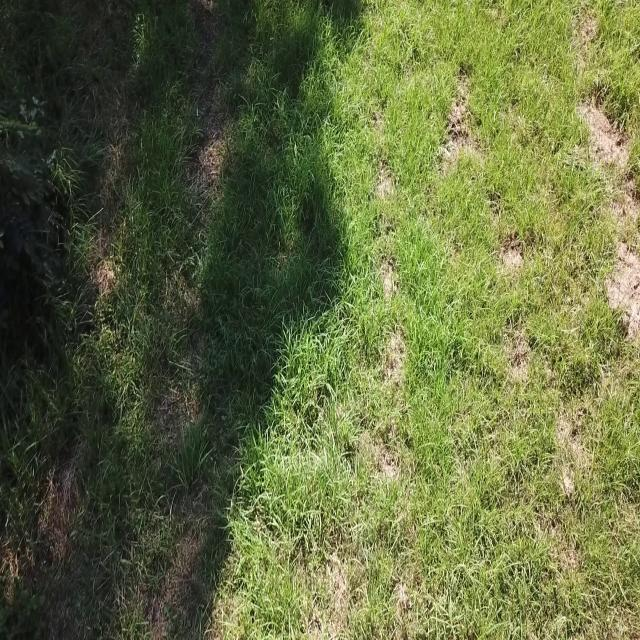Mysore-Thorn-Weed: (0, 74, 64, 339)
